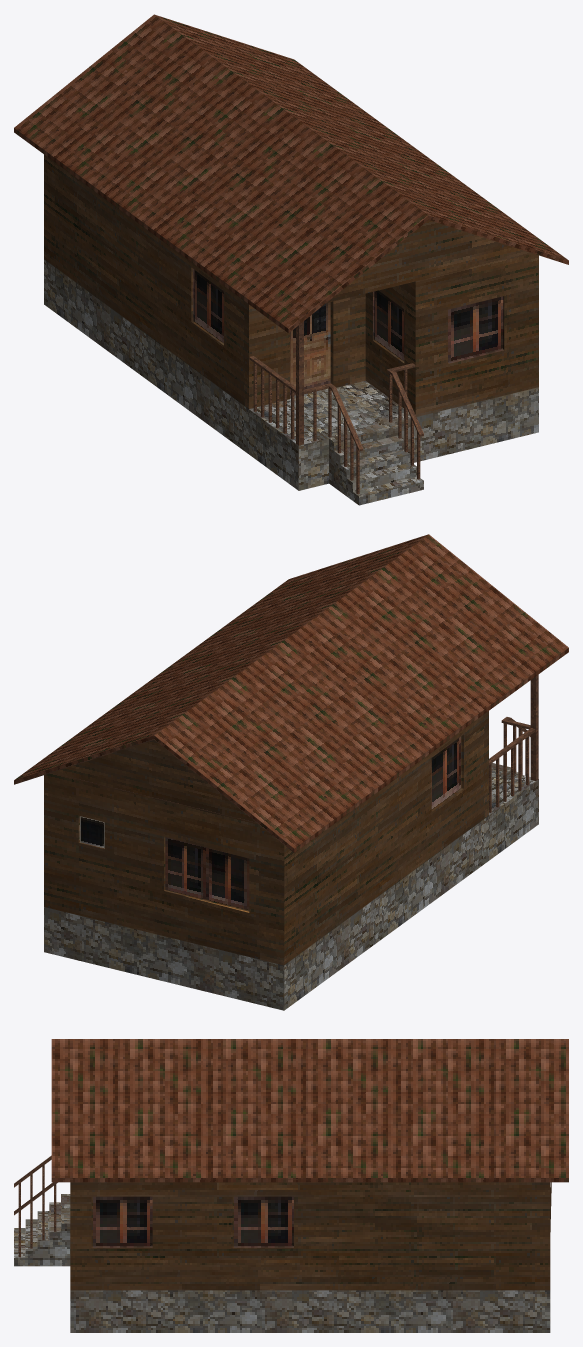
The model's file is house3.glb.
3 views of the same model, one above another, from view 1: azimuth 30°, elevation 25°; view 2: azimuth 150°, elevation 25°; view 3: azimuth 270°, elevation 25° (orthographic). The views are drawn at different scales.
Parts seen in each view (by area): view 1: house32, house3_windows, house3_door1; view 2: house32, house3_windows; view 3: house32, house3_windows.
Part boxes in pixels (bbox=[...]): house32: bbox=[14, 14, 568, 505]; house3_windows: bbox=[191, 267, 504, 363]; house3_door1: bbox=[290, 302, 330, 396]; house32: bbox=[14, 534, 568, 1010]; house3_windows: bbox=[78, 734, 463, 911]; house32: bbox=[14, 1039, 568, 1332]; house3_windows: bbox=[91, 1196, 293, 1247].
Size of the model in its own units: 6.48 by 5.6 by 11.8.
Materials: 6 (6 with a texture image).
